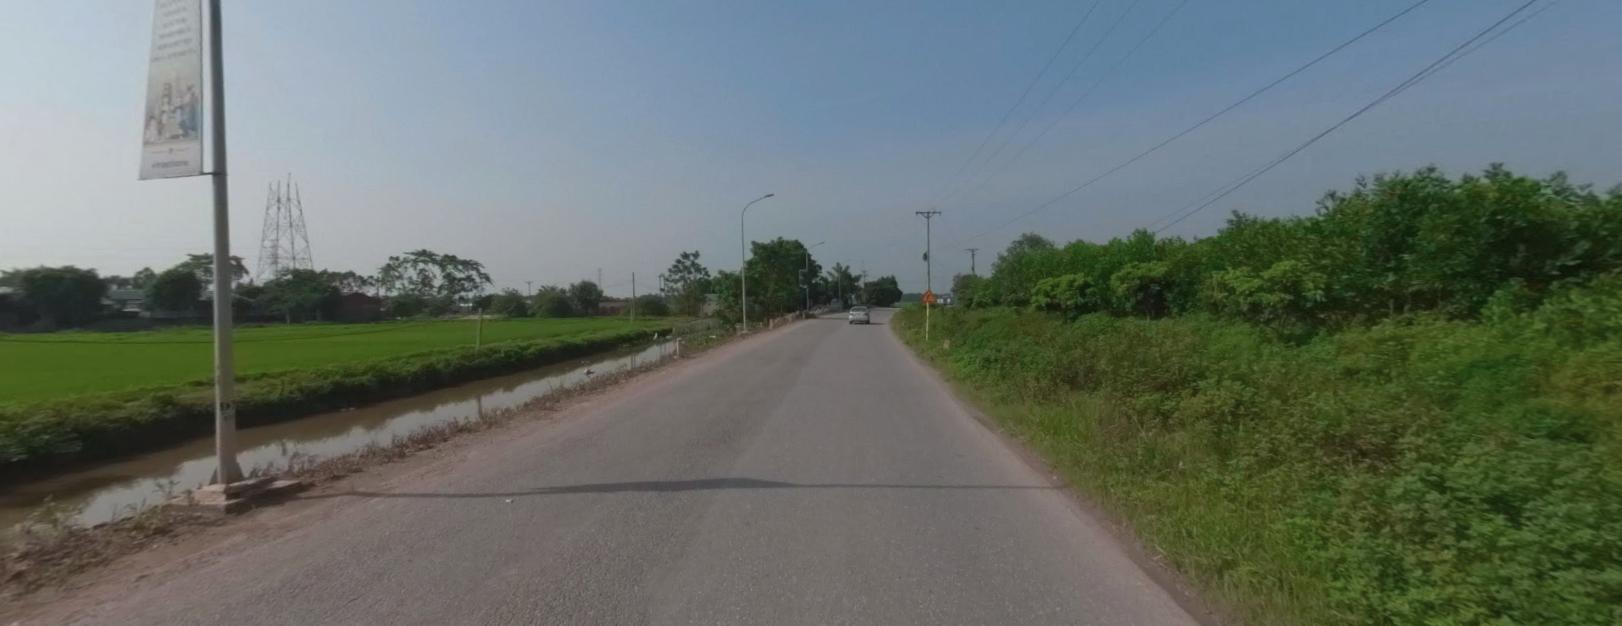Nguy hiem: (920, 288, 935, 300)
